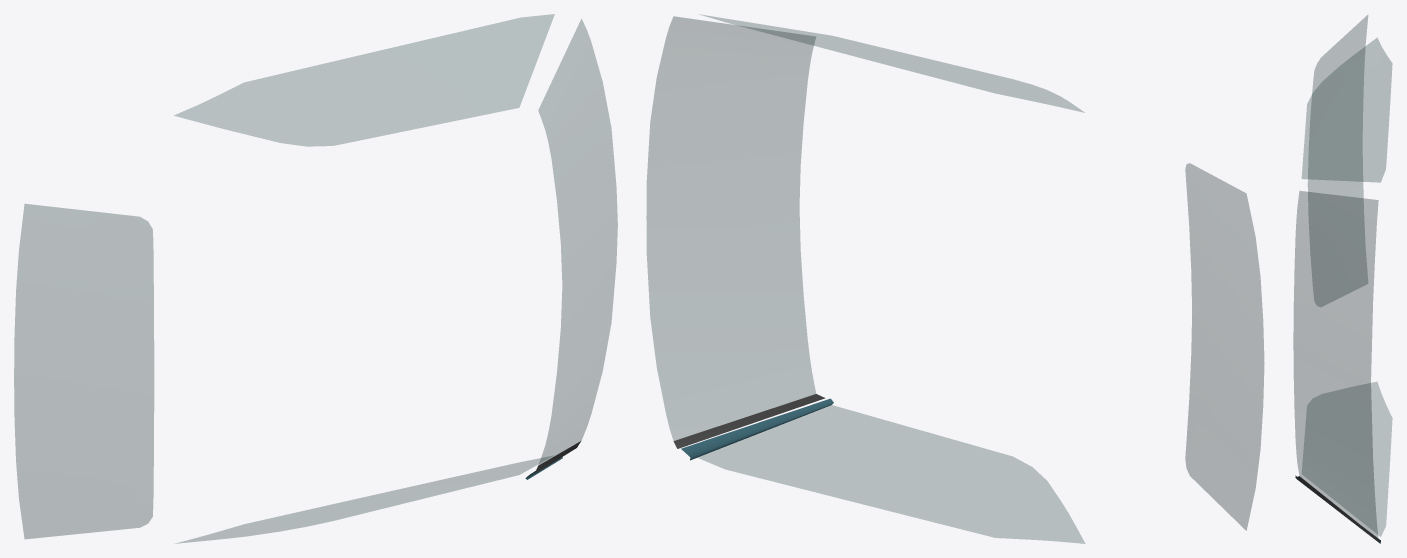
Rendered from CamaroGlass.obj.
3 renders of one model, left to right at view 1: azimuth 30°, elevation 25°; view 2: azimuth 150°, elevation 25°; view 3: azimuth 270°, elevation 25°, orthographic. The views are drawn at different scales.
Size of the model in its own units: 9.6 by 6.74 by 1.68.
